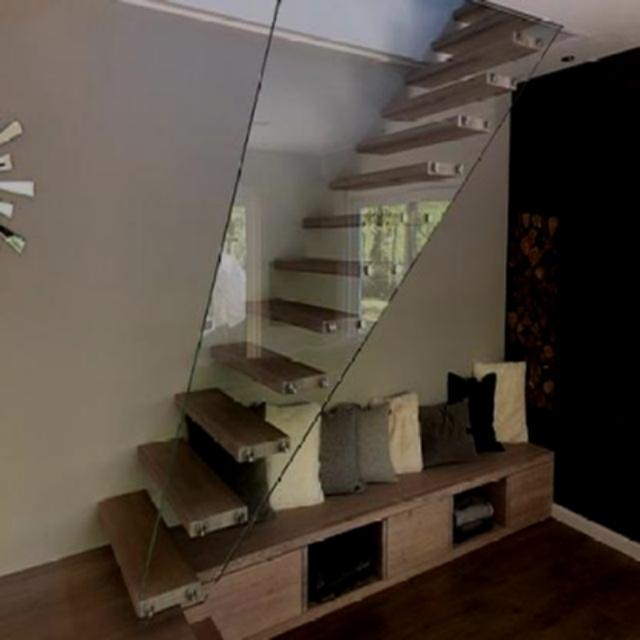stair: (117, 21, 526, 619)
